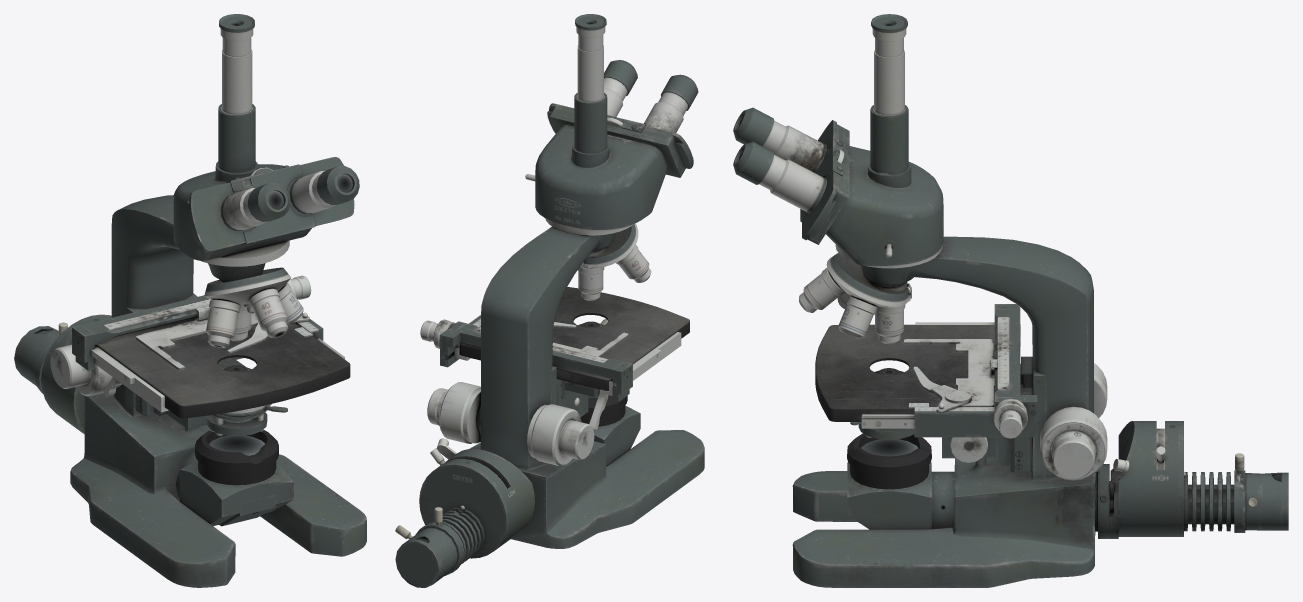
Rendered from industrial_microscope.glb.
3 renders of one model, left to right at view 1: azimuth 30°, elevation 25°; view 2: azimuth 150°, elevation 25°; view 3: azimuth 270°, elevation 25°, orthographic. The views are drawn at different scales.
Parts seen in each view (by area): view 1: industrial_microscope; view 2: industrial_microscope; view 3: industrial_microscope.
Boxes of the visible parts, left/top/right/bottom form: industrial_microscope: left=14, top=14, right=366, bottom=587; industrial_microscope: left=395, top=14, right=704, bottom=587; industrial_microscope: left=733, top=14, right=1288, bottom=587.
Bounding box in the file's own units: 0.2145 × 0.4601 × 0.4466.
Materials: 1 (1 with a texture image).
